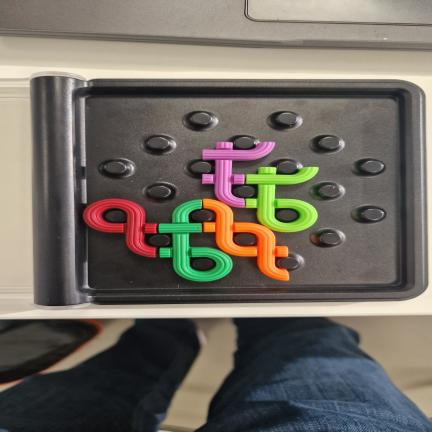D_Green: (159, 200, 232, 281)
H_Purple: (202, 142, 274, 207)
I_Orange: (203, 199, 289, 280)
J_DarkRed: (84, 199, 157, 257)
K_YellowGreen: (246, 167, 318, 232)
board: (30, 72, 428, 308)
hinge: (37, 72, 87, 309)
pin: (353, 207, 385, 223), (103, 209, 127, 223), (361, 160, 384, 174), (232, 185, 255, 199), (318, 136, 340, 150), (192, 209, 214, 223), (104, 161, 127, 174), (149, 185, 172, 198), (276, 209, 299, 222), (192, 258, 215, 271), (276, 112, 297, 126), (233, 137, 255, 150), (277, 161, 299, 174), (278, 257, 300, 270), (234, 233, 257, 245), (191, 112, 212, 125), (148, 137, 169, 150), (191, 161, 212, 174), (319, 184, 340, 197), (320, 232, 341, 245), (149, 234, 170, 247)
